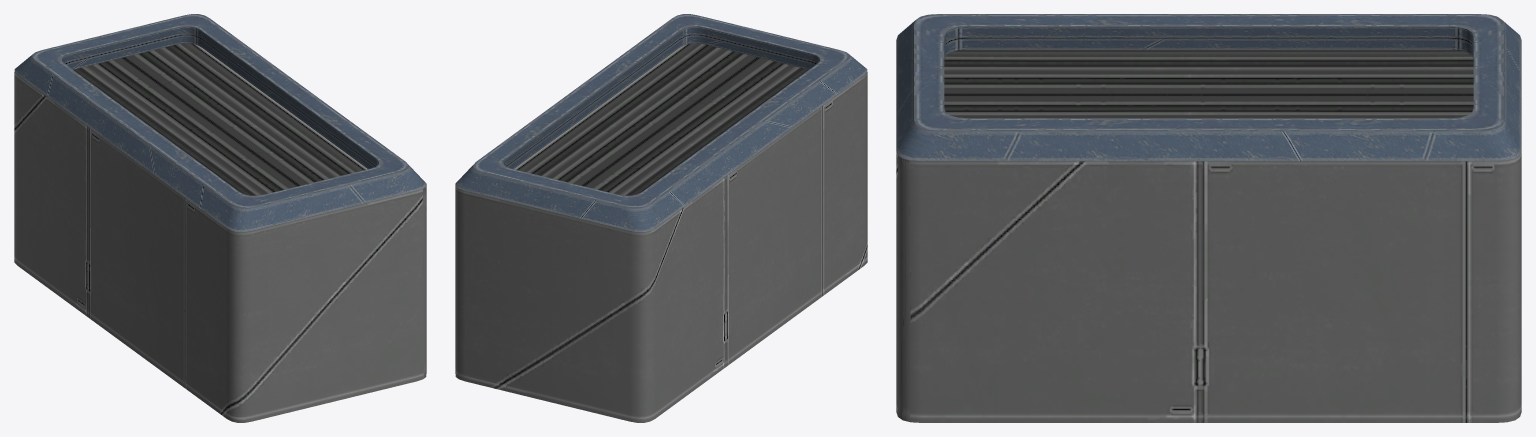
The model's file is Club_StairRailCap_01.FBX.
3 views of the same model, side by side, from view 1: azimuth 30°, elevation 25°; view 2: azimuth 150°, elevation 25°; view 3: azimuth 270°, elevation 25° (orthographic). The views are drawn at different scales.
Parts seen in each view (by area): view 1: Club_StairRailCap_01; view 2: Club_StairRailCap_01; view 3: Club_StairRailCap_01.
Part boxes in pixels (box(x1,y1,x2,y2)): Club_StairRailCap_01: box(14, 14, 426, 422); Club_StairRailCap_01: box(455, 14, 867, 422); Club_StairRailCap_01: box(896, 14, 1521, 422).
Bounding box in the file's own units: 0.4972 × 0.5 × 0.9956.
